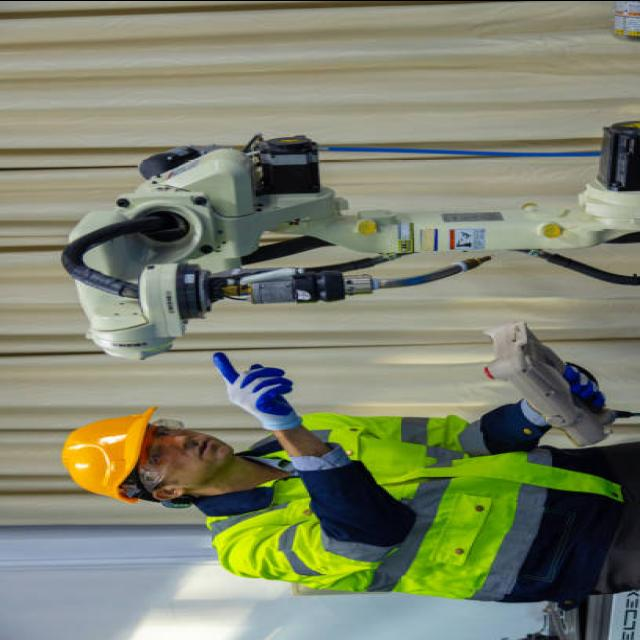Robotic-arm: (51, 121, 640, 368)
